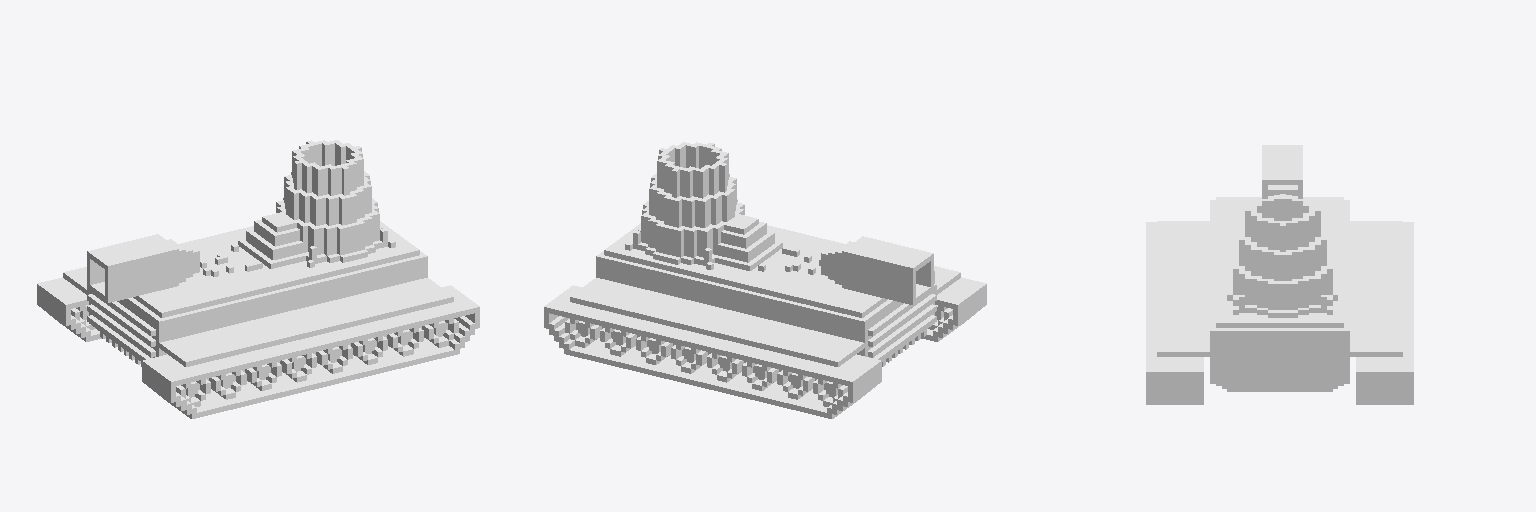
File: Busytankio_Mortar_Tank.obj
The picture shows the model from 3 angles: view 1: azimuth 30°, elevation 25°; view 2: azimuth 150°, elevation 25°; view 3: azimuth 270°, elevation 25°; orthographic projection.
Parts seen in each view (by area): view 1: object 1; view 2: object 1; view 3: object 1.
Part boxes in pixels (x1,y1,x2,y2): object 1: (37, 140, 479, 418); object 1: (544, 142, 986, 418); object 1: (1146, 145, 1413, 404).
Size of the model in its own units: 6.2 by 3.1 by 4.6.